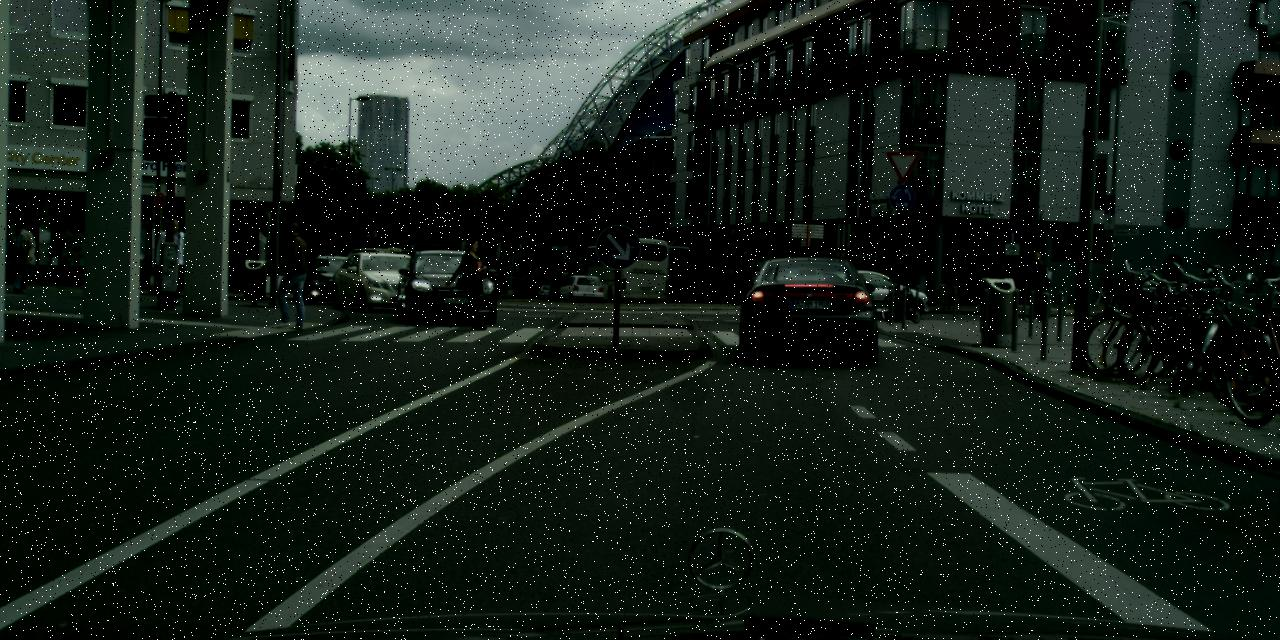ped: (270, 222, 312, 327), (451, 239, 486, 326), (156, 220, 189, 299), (1023, 250, 1052, 321), (5, 221, 32, 290), (664, 274, 685, 304)
